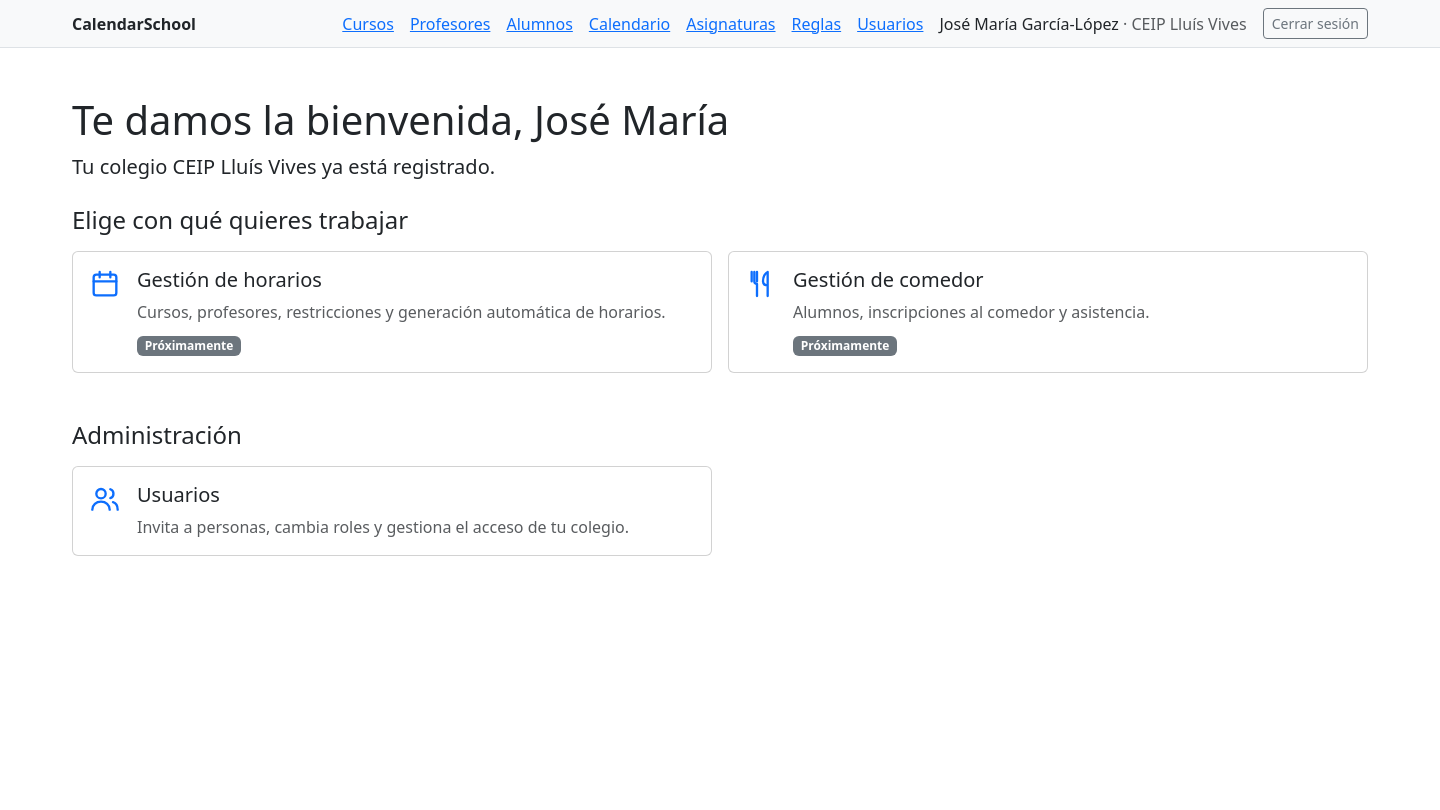
App › logging out › goes from /onboarding to the login page and removes the header
What coordinates should you click on to do the following:
click the button "Cerrar sesión"
I would click on:
 (1315, 24)
Its box is [1263,8,1368,39].
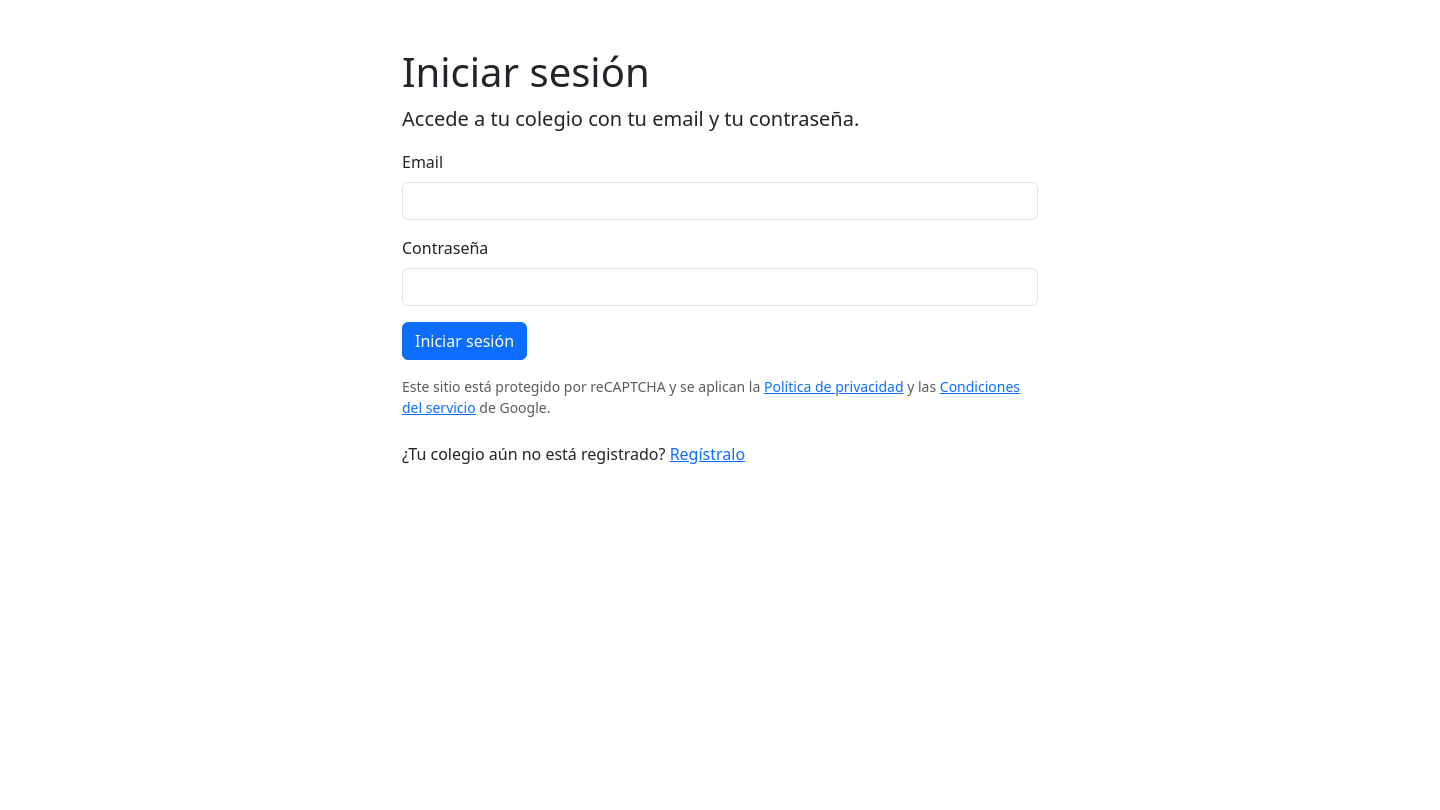
Check: the element with test id "login-page" is shown, box [402,44,1038,465]
Check: the element with test id "onboarding-page" is gone
